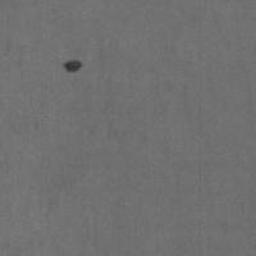Inclusion: (61, 58, 83, 74)
